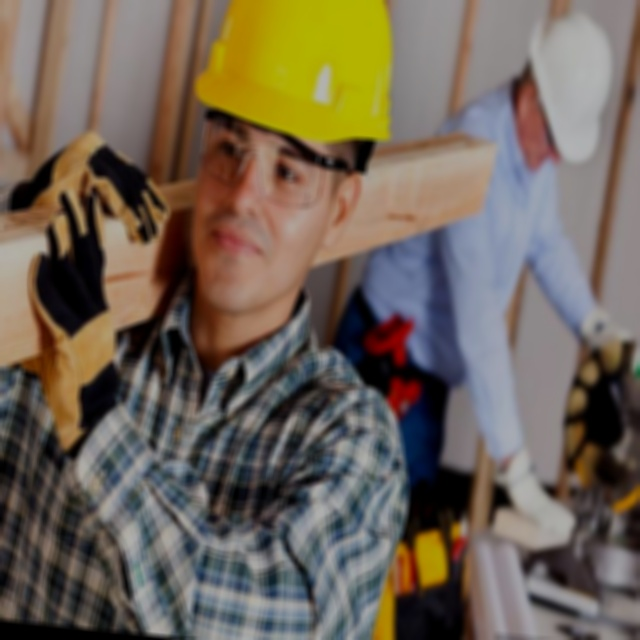Con_Casco: (175, 0, 406, 324)
